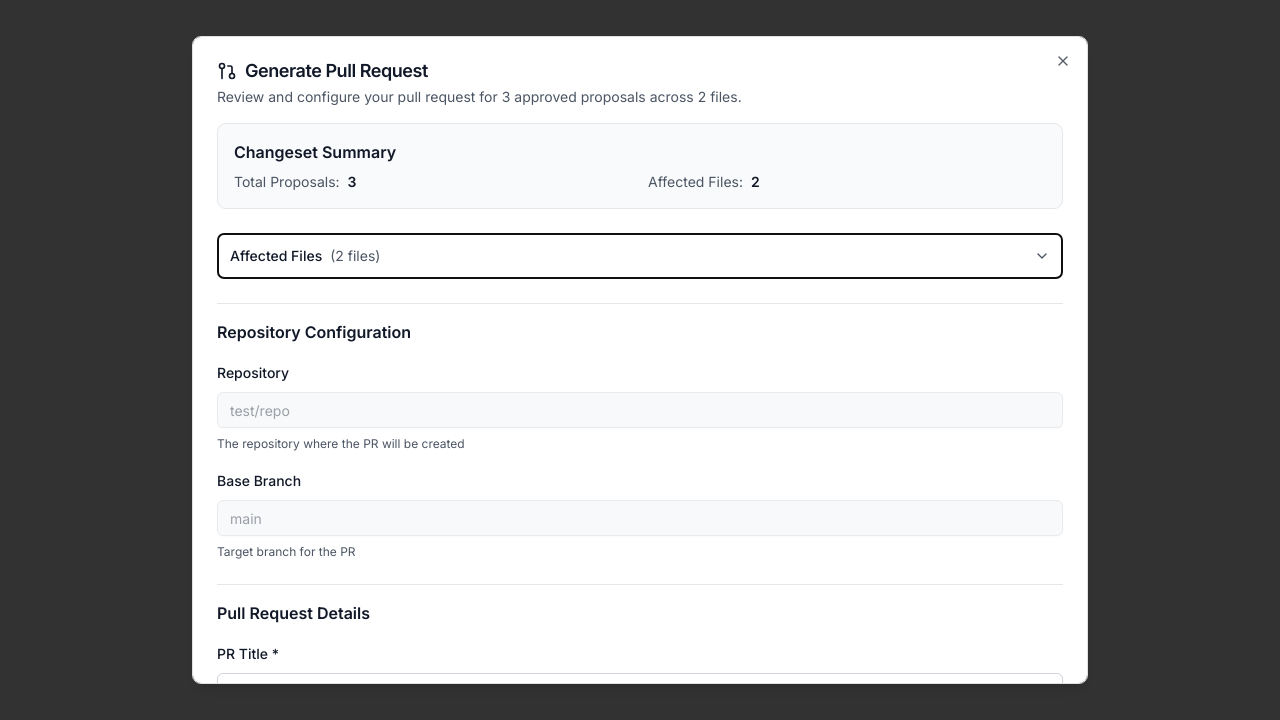
PRPreviewModal › should expand file list when clicked
Click the button "Affected Files (2 files)" at [276, 256], box x1=217 y1=233 x2=1063 y2=279
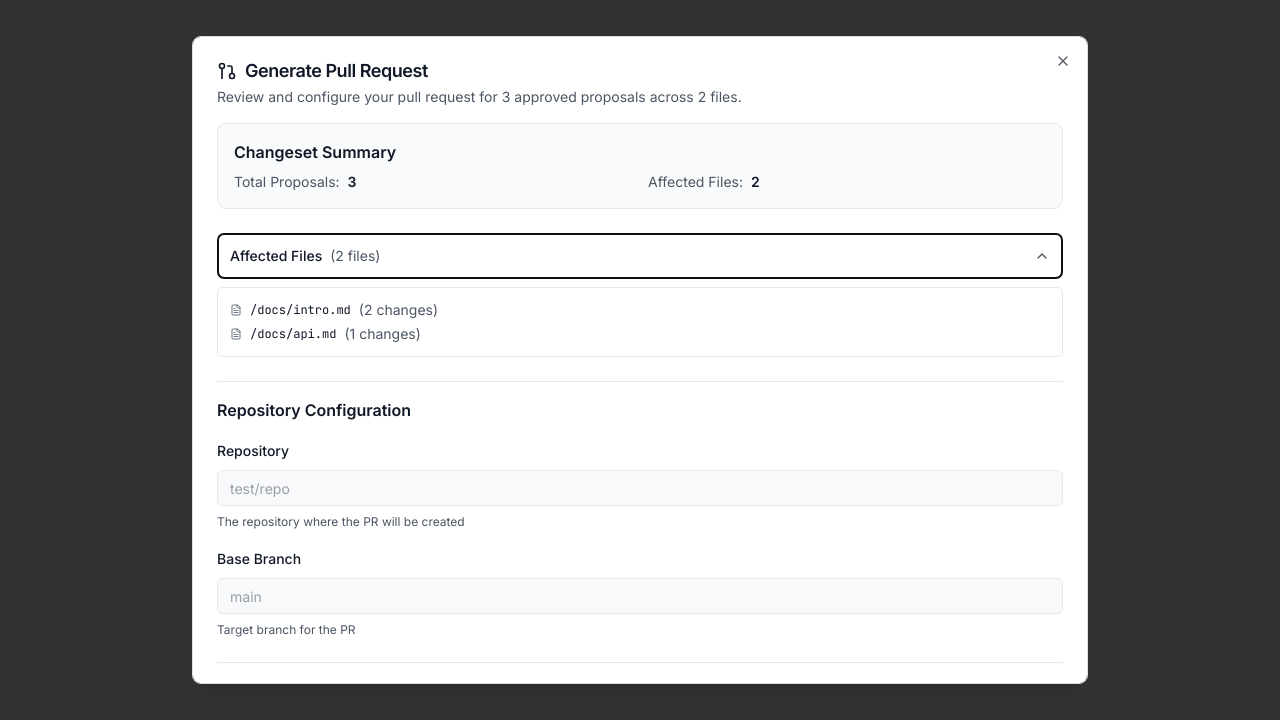
Result: the text "/docs/intro.md" is shown at x1=250 y1=302 x2=351 y2=318
Result: the text "/docs/api.md" is shown at x1=250 y1=326 x2=336 y2=342
